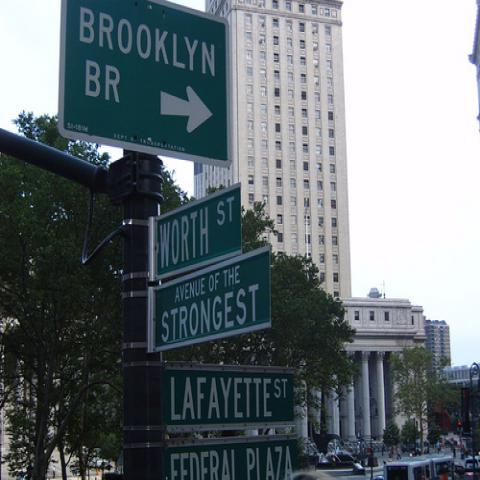bus: (382, 450, 453, 480)
